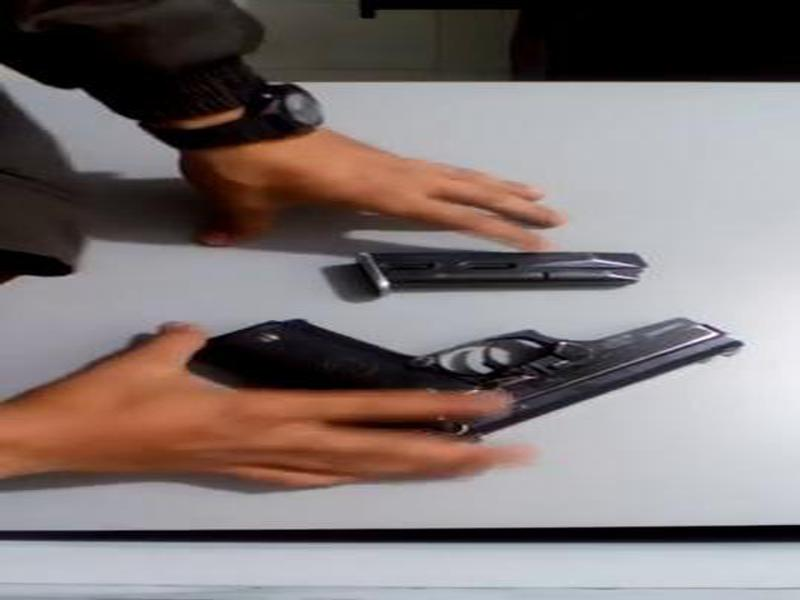Pistola: (158, 288, 760, 478)
